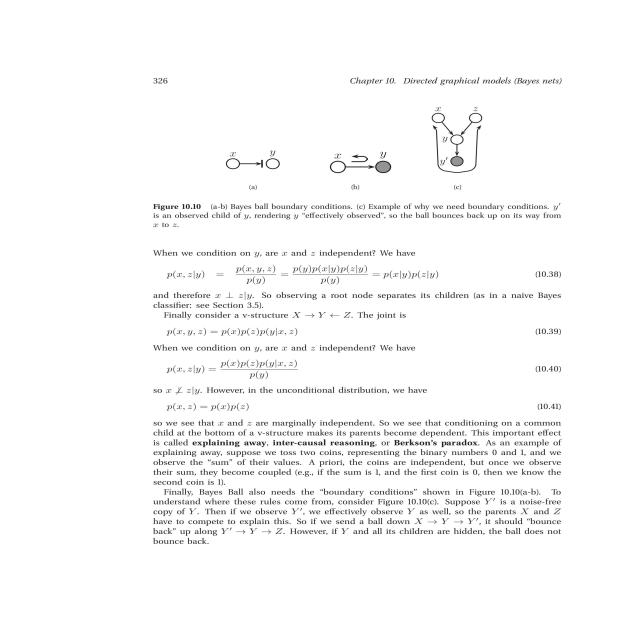diagram: (84, 107, 565, 231)
